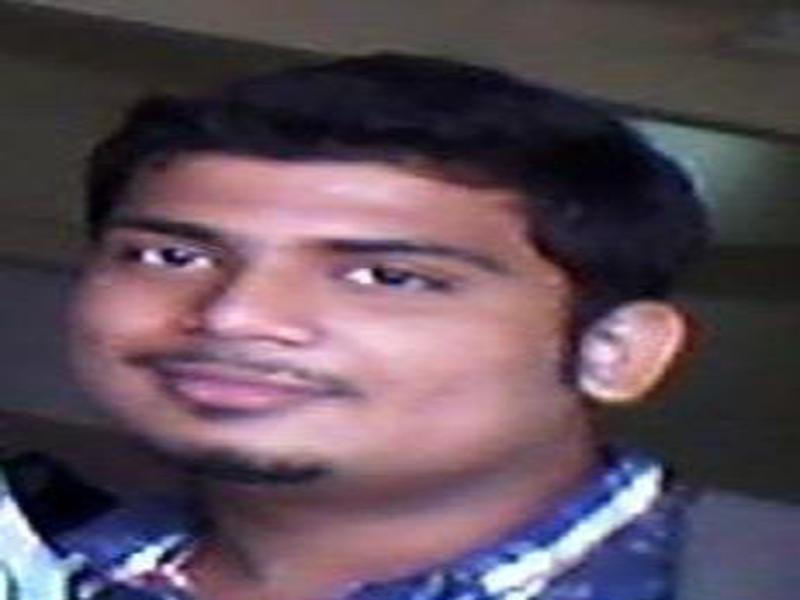without_mask: (68, 157, 572, 480)
